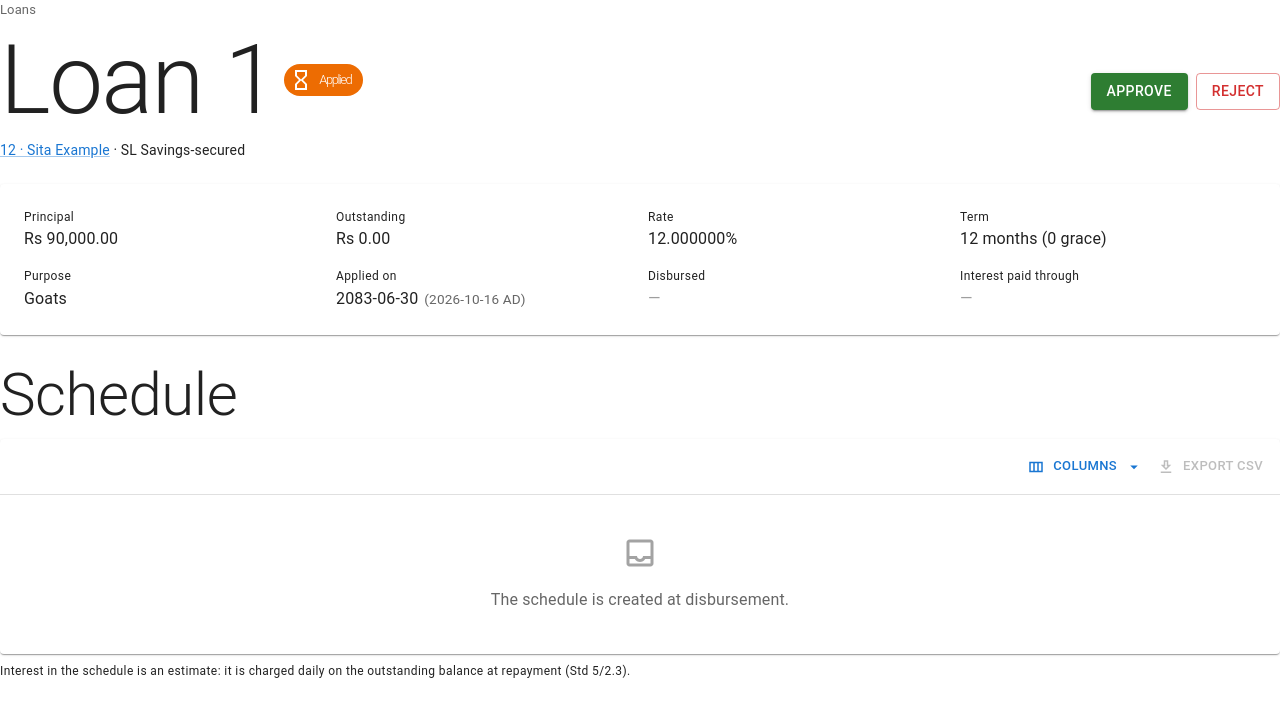
Scenario: LoanView › shows the server refusal for maker-checker inside the confirmation
The image size is (1280, 707).
Click the button "Approve" at [1139, 92], box [1090,73,1188,110]
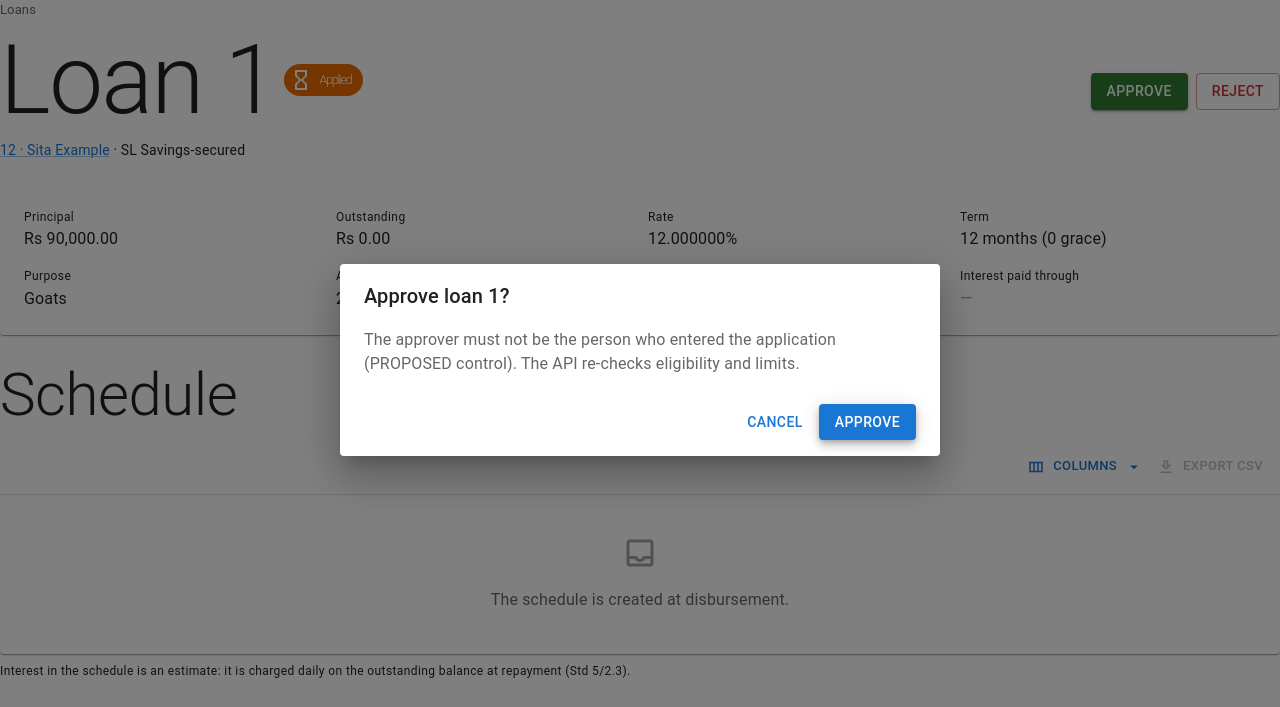
Click the button "Approve" at [867, 422], box [819,404,916,440]
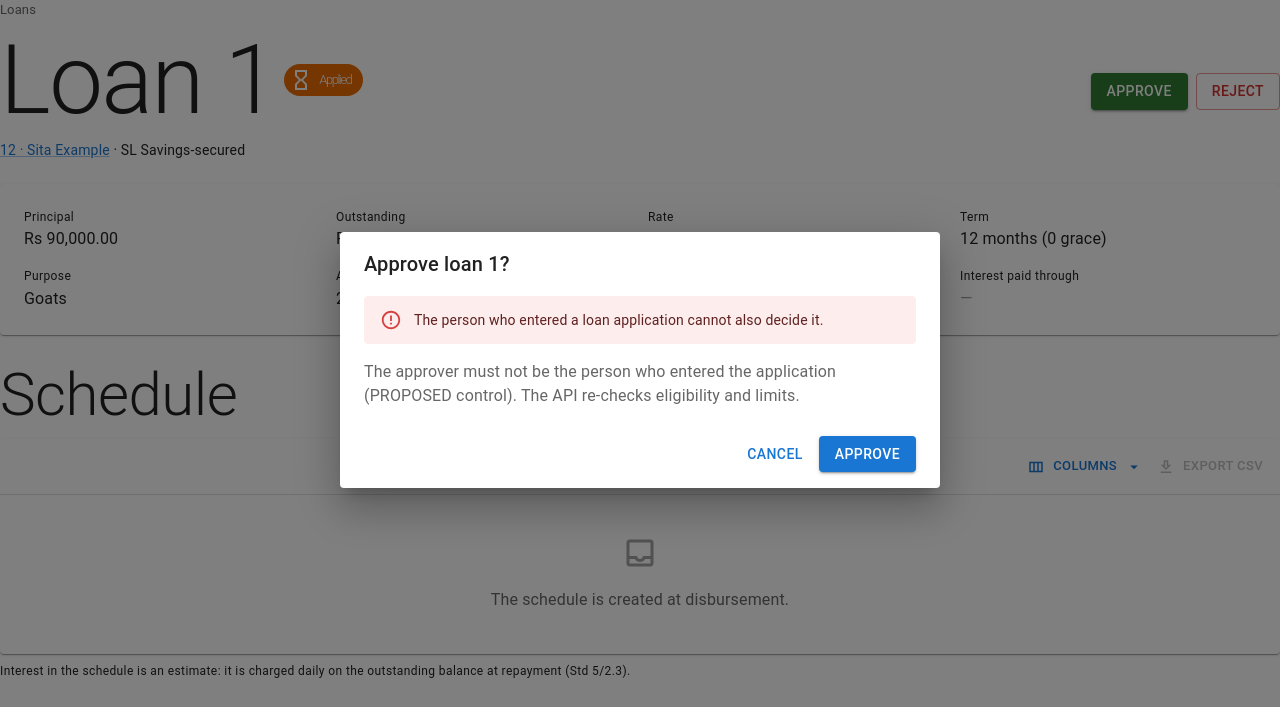
Check: the text "The person who entered a loan application cannot also decide it." is shown, box [414,312,824,328]
